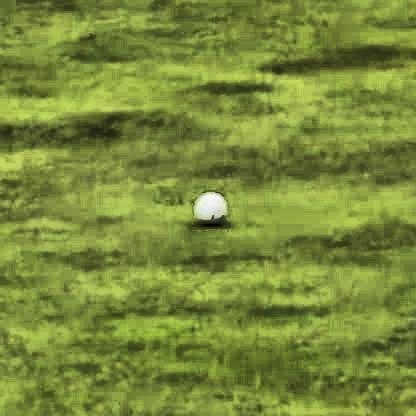golfball: (192, 187, 222, 220)
